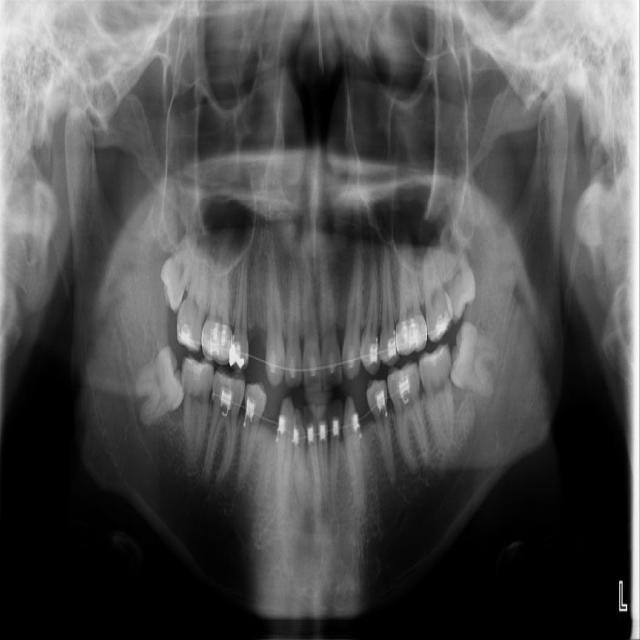3M ESPE Implant: (147, 215, 215, 314)
52: (414, 341, 457, 392), (198, 319, 235, 366), (180, 352, 216, 398), (395, 314, 429, 358), (229, 332, 249, 373)
73: (551, 522, 555, 532)
BioHorizons Implant: (417, 236, 457, 343)
BioLife Implant: (424, 207, 484, 325)
Biomet 3i Implant: (443, 319, 508, 400)
Blue Sky Bio Implant: (415, 341, 464, 447)
Caries: (169, 231, 228, 354)
Implant: (175, 352, 215, 467)
Keystone Dental Implant: (131, 343, 190, 425)
